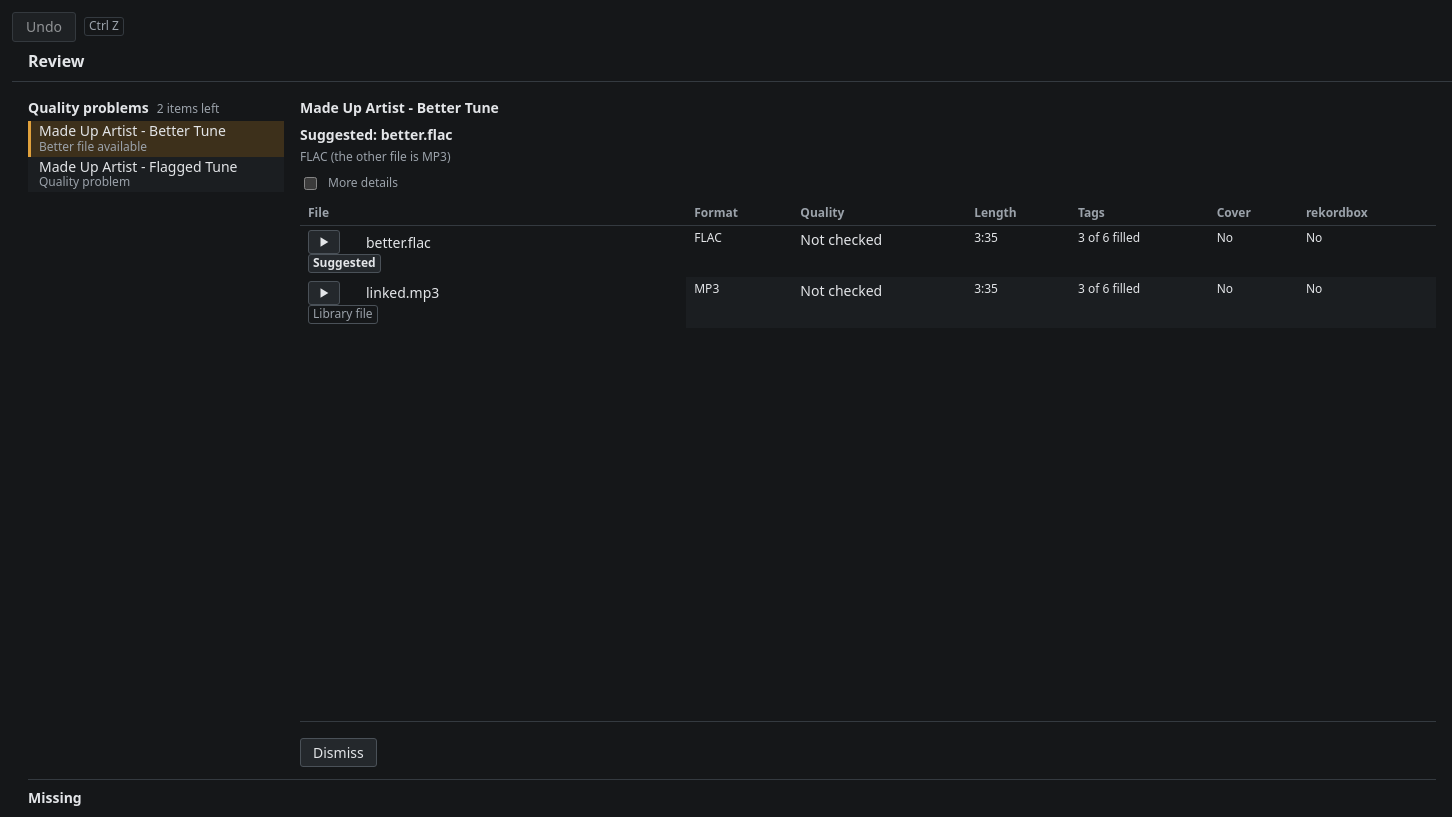
Test: a Better file available item › is dismissed with one button, leaves the queue, and Undo brings it back
Expected: the number of options is 2, [28,121,284,157]; [28,157,284,192]
Click the button "Dismiss" at point(338, 753), box [300,738,377,767]
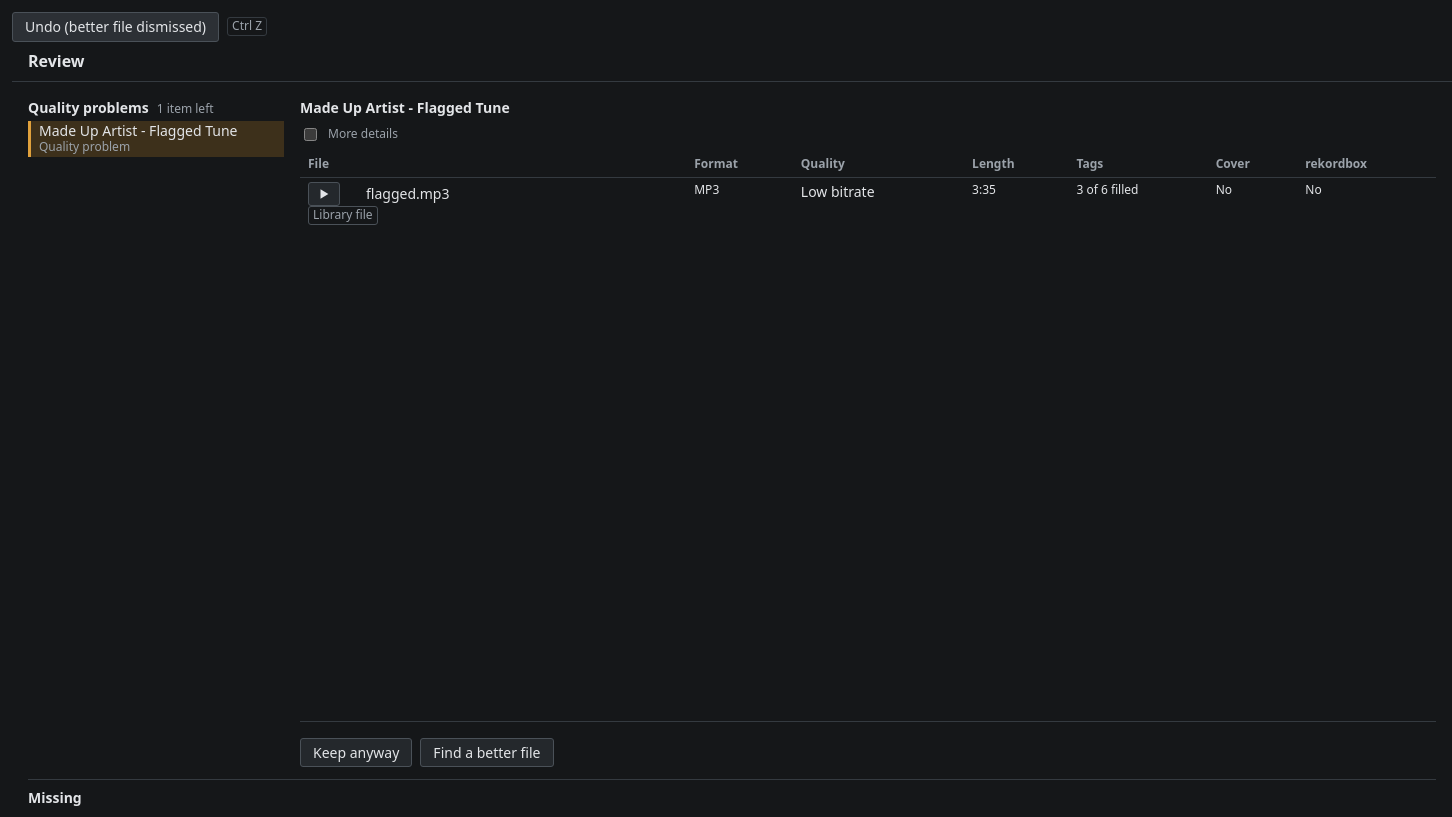
Now the number of options is 1, box [28,121,284,157]
Click the button "Undo (better file dismissed)" at point(116, 27), box [12,12,219,42]
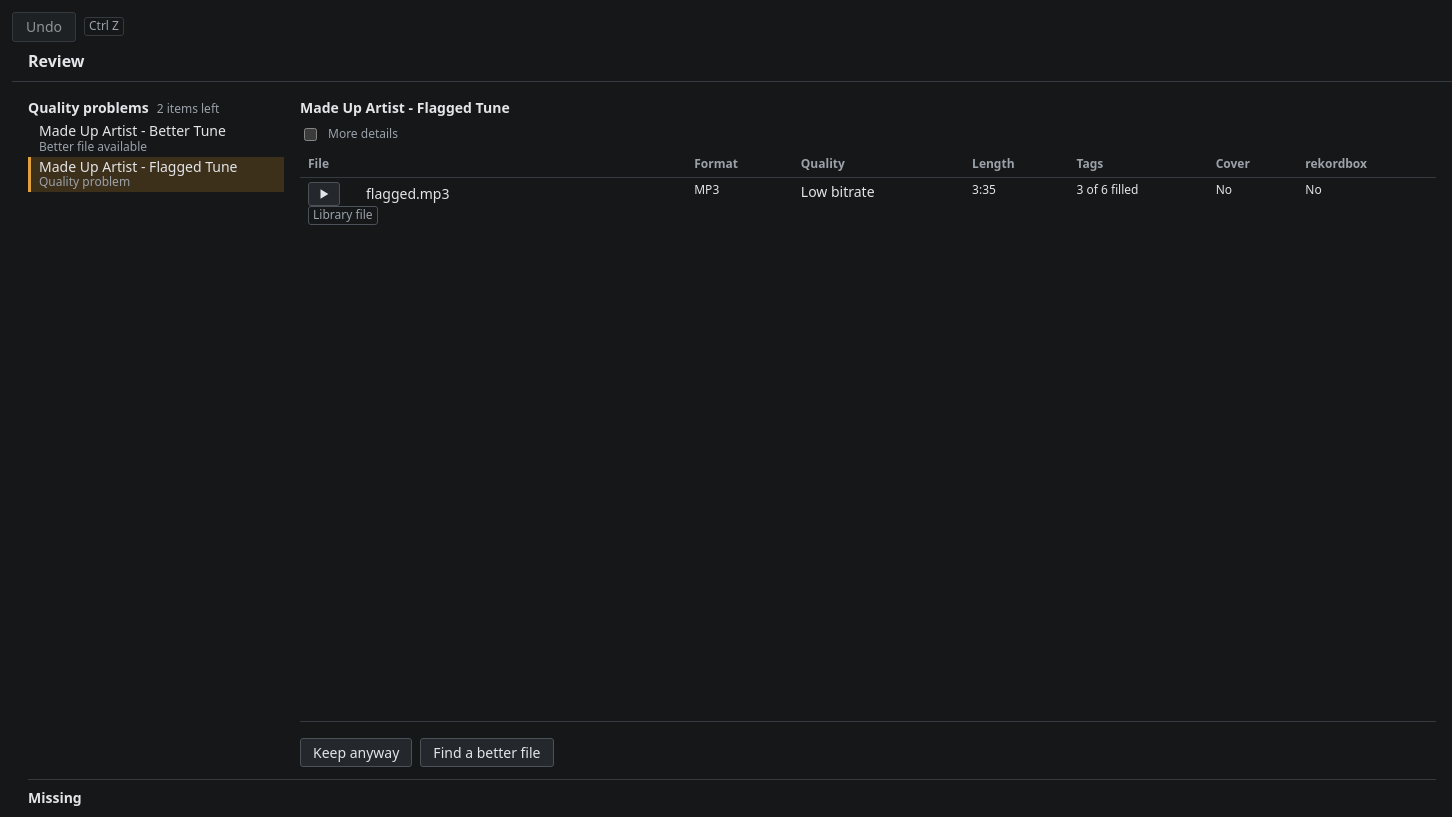
Now the number of options is 2, box [39,121,226,155]; [28,157,284,192]
